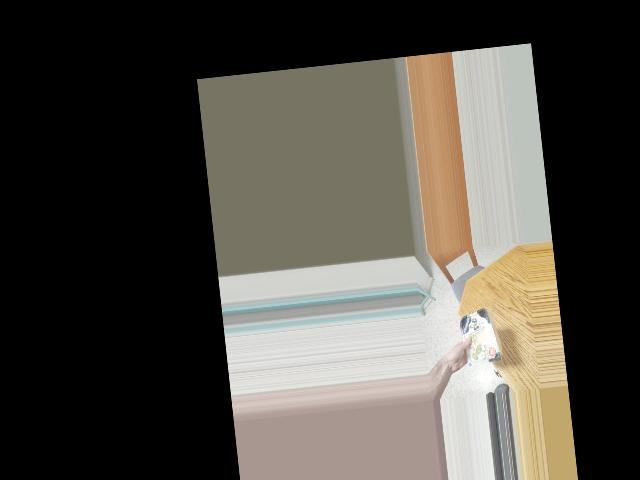cheese: (455, 306, 496, 370)
